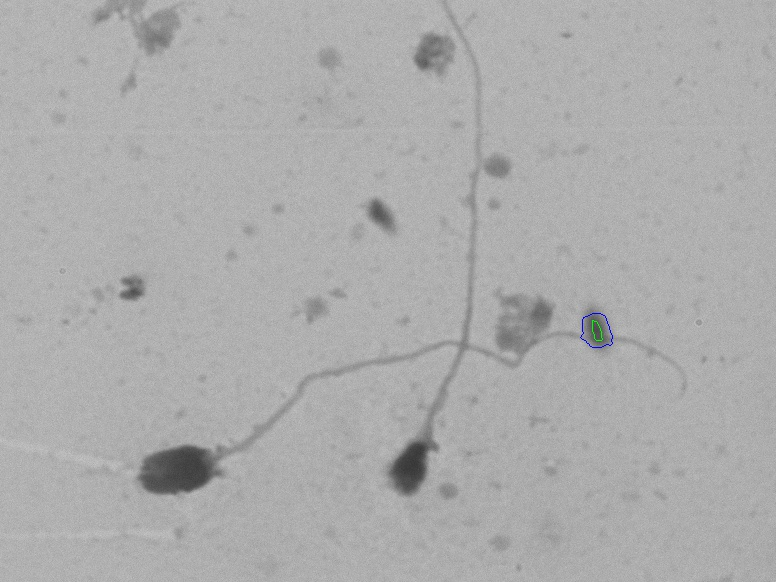Abnormal: (383, 28, 495, 525), (74, 356, 349, 512)
